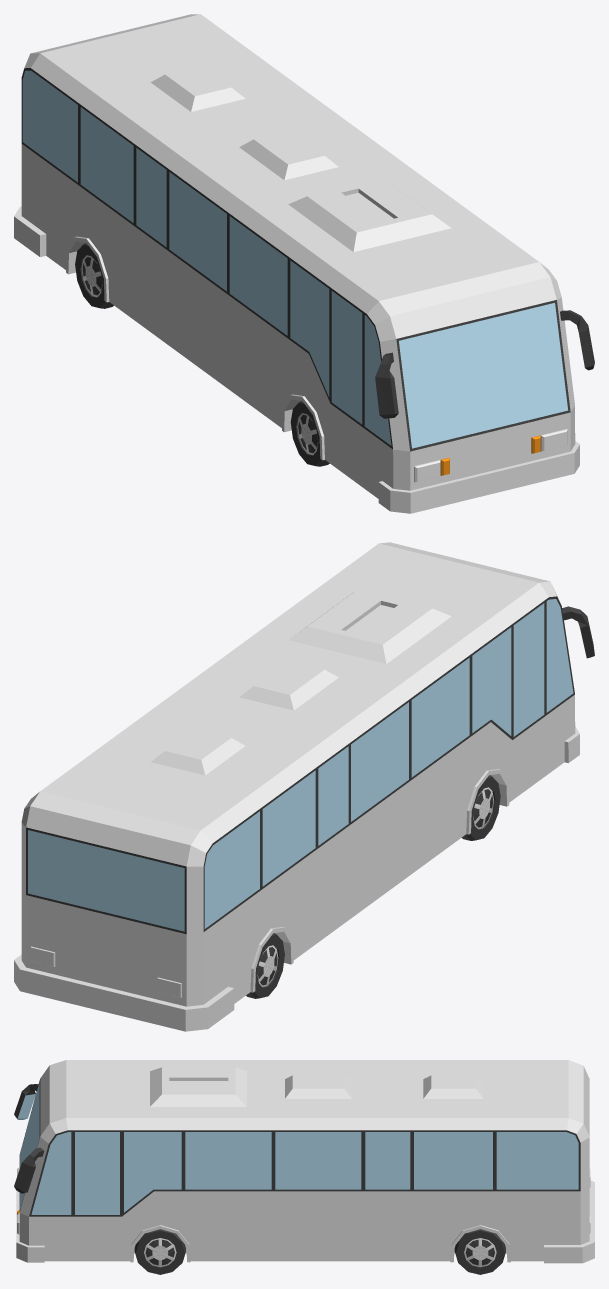
Rendered from Bus.glb.
3 renders of one model, top to bottom at view 1: azimuth 30°, elevation 25°; view 2: azimuth 150°, elevation 25°; view 3: azimuth 270°, elevation 25°, orthographic. The views are drawn at different scales.
Parts seen in each view (by area): view 1: Bus; view 2: Bus; view 3: Bus.
Boxes of the visible parts, <box> form: Bus: <box>14,14,594,513</box>; Bus: <box>14,542,594,1031</box>; Bus: <box>14,1060,594,1274</box>.
Bounding box in the file's own units: 50.06 × 48.81 × 157.
1 material, 1 textured.
